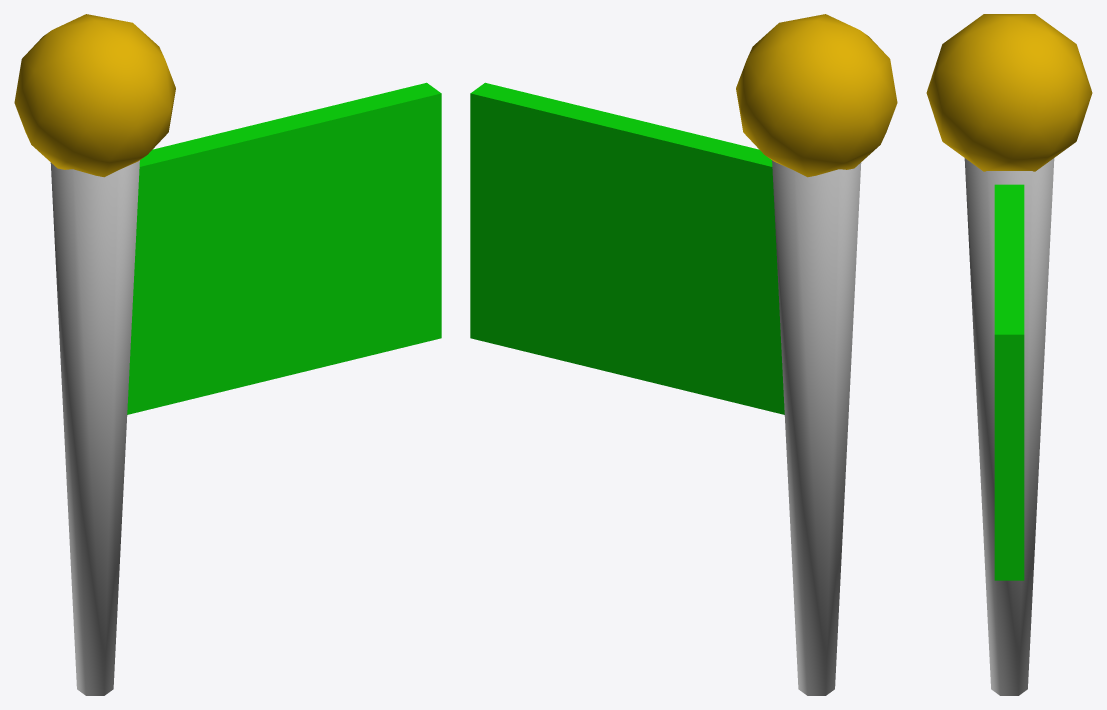
The model's file is Fbx_CheckpointFlag.fbx.
3 views of the same model, side by side, from view 1: azimuth 30°, elevation 25°; view 2: azimuth 150°, elevation 25°; view 3: azimuth 270°, elevation 25° (orthographic).
Visible parts, largest first — view 1: Cone; view 2: Cone; view 3: Cone.
Boxes of the visible parts, x1,y1,x2,y2 form: Cone: (14,14,441,695); Cone: (470,14,897,695); Cone: (926,14,1092,695).
Size of the model in its own units: 2.11 by 3.31 by 0.7417.
